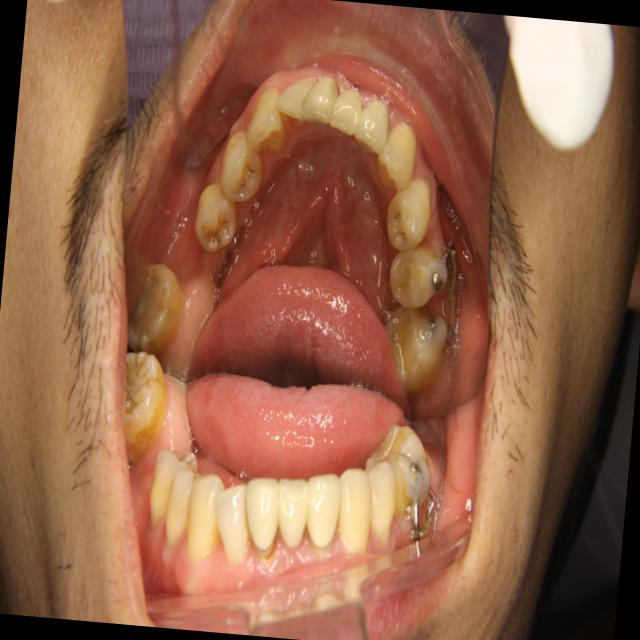tooth: (373, 295, 459, 402), (118, 250, 192, 360), (379, 239, 459, 322), (377, 168, 441, 258), (237, 79, 302, 159), (371, 105, 426, 198), (212, 127, 271, 211), (347, 85, 401, 167), (190, 176, 246, 254), (295, 65, 341, 137), (323, 76, 367, 144), (272, 70, 318, 135)
